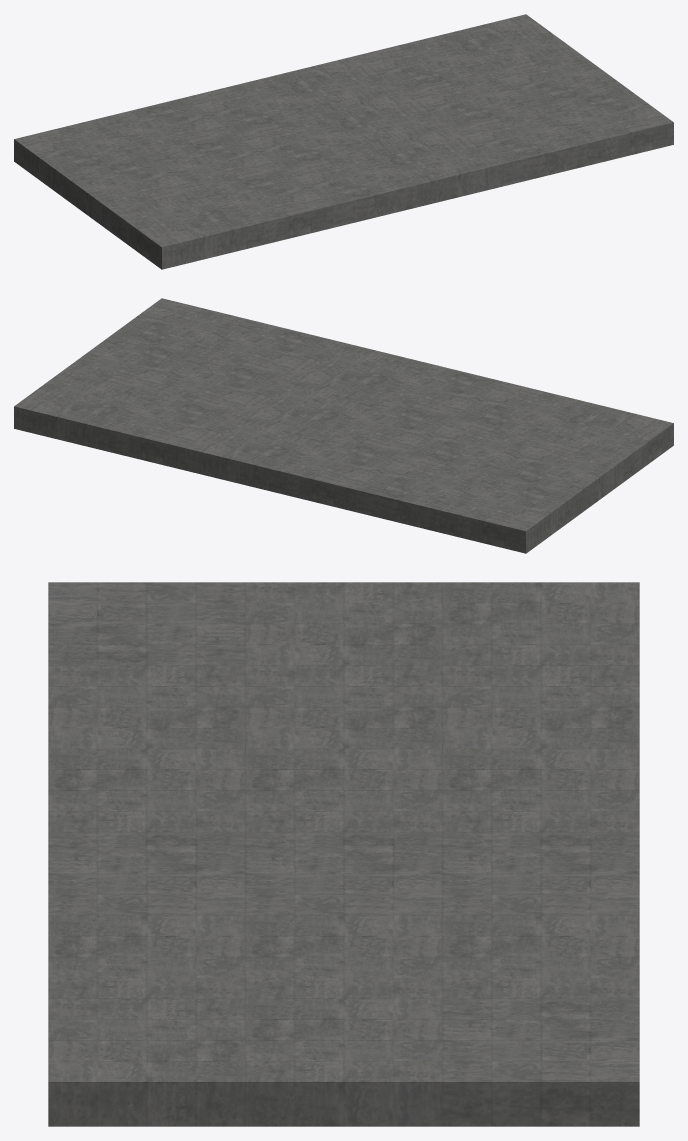
File: SM_Ground_2.fbx
The picture shows the model from 3 angles, top to bottom: view 1: azimuth 30°, elevation 25°; view 2: azimuth 150°, elevation 25°; view 3: azimuth 270°, elevation 25°; orthographic projection. The views are drawn at different scales.
Visible parts, largest first — view 1: SM_Ground_2_LOD0; view 2: SM_Ground_2_LOD0; view 3: SM_Ground_2_LOD0.
Part boxes in pixels (x1,y1,x2,y2): SM_Ground_2_LOD0: (14,14,673,269); SM_Ground_2_LOD0: (14,298,673,553); SM_Ground_2_LOD0: (48,582,639,1126).
Size of the model in its own units: 4800 by 2400 by 200.
1 material, 1 textured.
